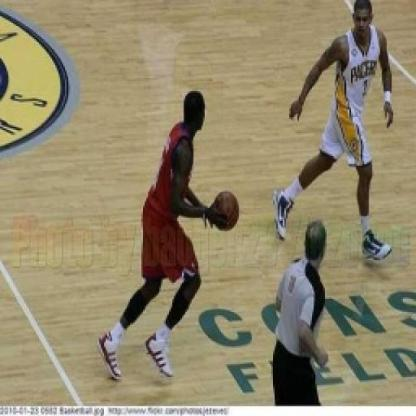basketball: (212, 190, 240, 232)
